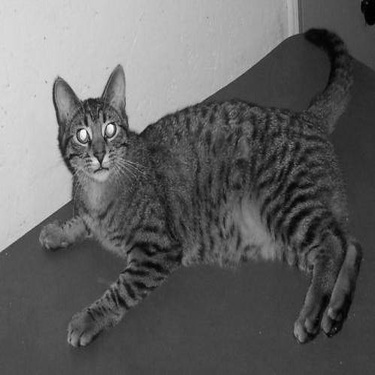cat: (41, 25, 362, 348)
